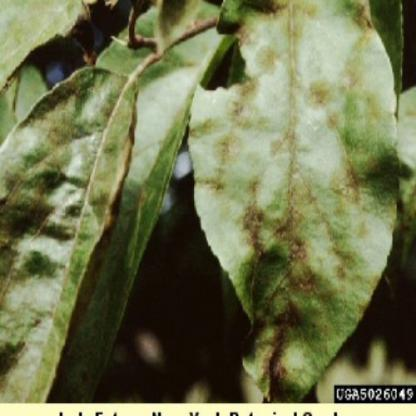apple scab leaf: (187, 1, 399, 387)
